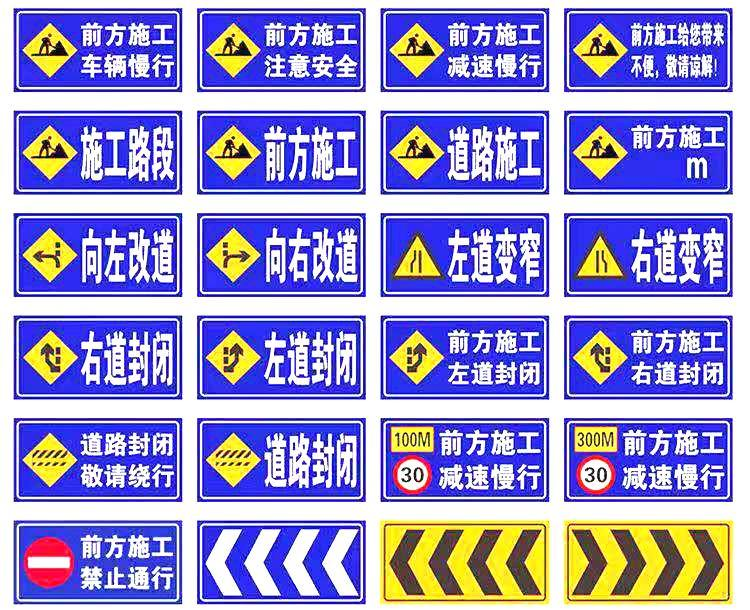sign: (566, 417, 732, 503), (561, 317, 732, 400), (12, 316, 180, 400), (568, 214, 732, 300), (382, 215, 550, 298), (197, 520, 367, 602), (197, 9, 362, 93), (16, 11, 185, 93), (381, 111, 550, 193), (16, 520, 179, 605), (197, 213, 364, 295), (14, 416, 181, 498), (15, 113, 182, 194), (200, 316, 364, 398), (198, 420, 362, 502), (563, 112, 731, 192), (14, 215, 182, 295), (196, 114, 366, 193), (380, 316, 544, 397), (567, 521, 729, 603), (382, 421, 547, 500), (384, 523, 547, 602), (568, 9, 733, 87), (382, 11, 544, 90)
